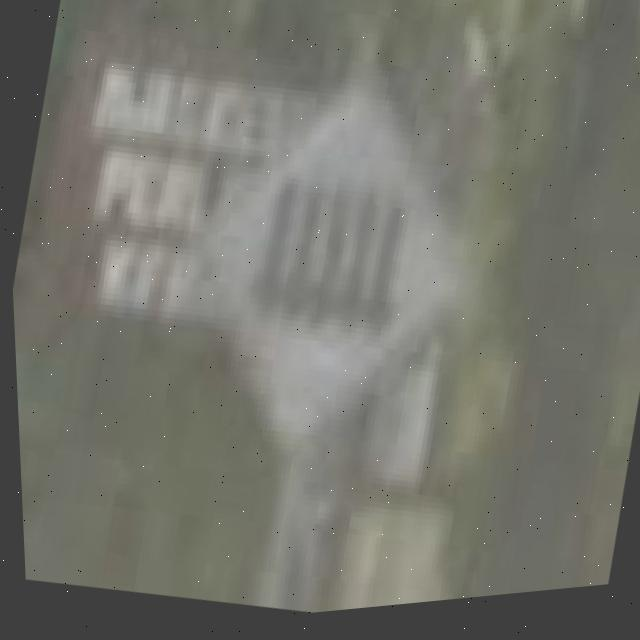Peringatan Perlintasan Kereta Api: (198, 76, 492, 482)
